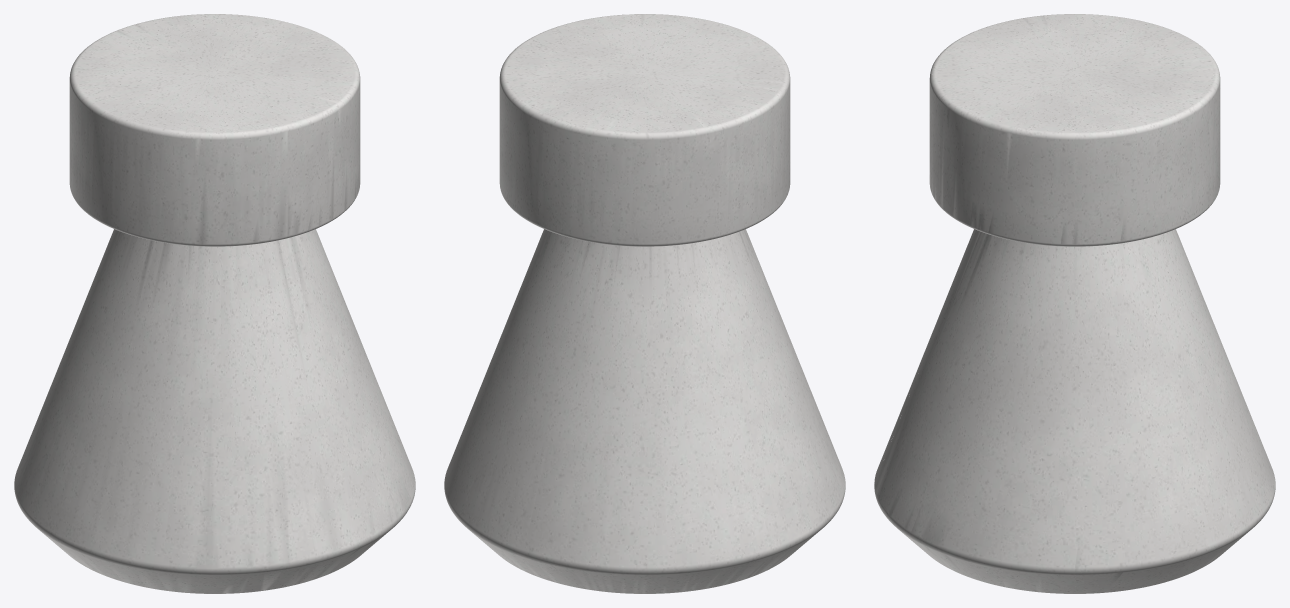
File: rook-white-hd.glb
The picture shows the model from 3 angles, left to right: view 1: azimuth 30°, elevation 25°; view 2: azimuth 150°, elevation 25°; view 3: azimuth 270°, elevation 25°; orthographic projection.
Visible parts, largest first — view 1: 03_vez_bila; view 2: 03_vez_bila; view 3: 03_vez_bila.
Boxes of the visible parts, x1,y1,x2,y2 form: 03_vez_bila: (14,14,415,593); 03_vez_bila: (444,14,845,593); 03_vez_bila: (874,14,1275,593).
Size of the model in its own units: 0.796 by 0.99 by 0.796.
Materials: 1 (1 with a texture image).
